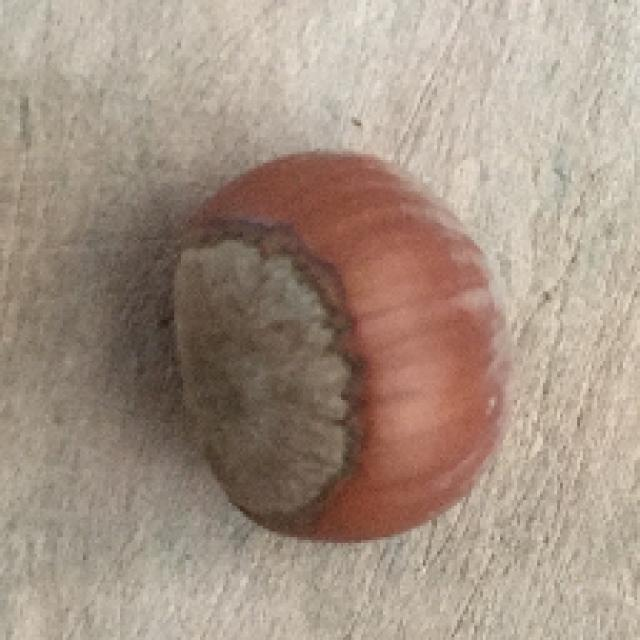qualityHazelnut: (172, 149, 516, 540)
